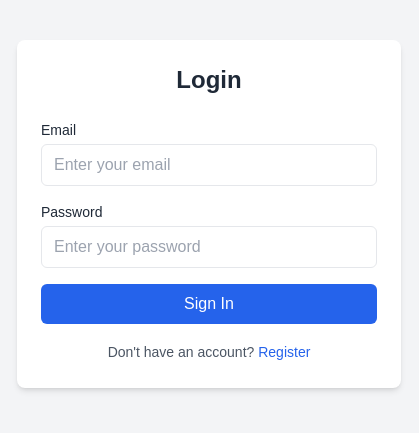
Scenario: LoginForm Component › displays validation error for short password
The image size is (419, 433).
Step 1. Type "123" into the password field labelled "Password" → (209, 247), box [41, 226, 377, 268]
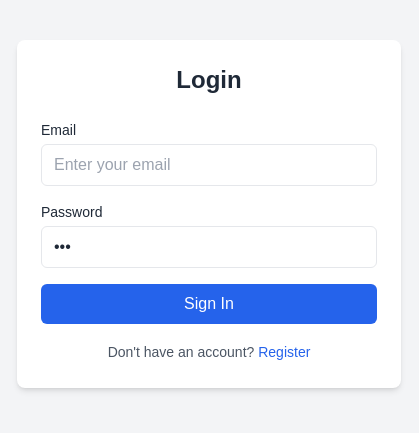
Step 2. Click the button "Sign In" → (209, 304), box [41, 284, 377, 324]
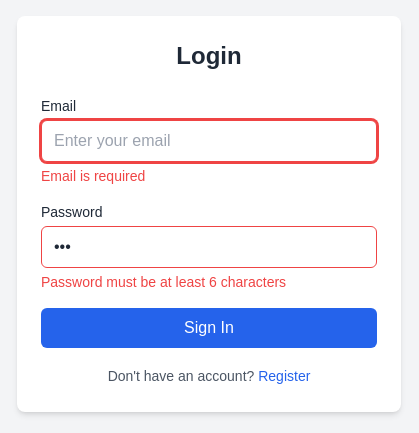
Expected: the text "Password must be at least 6 characters" is shown, [41, 274, 286, 290]
